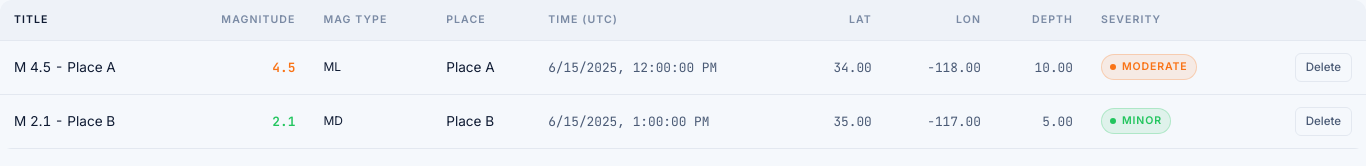
Test: EarthquakeTable › shows confirm/cancel on delete click, cancels on Cancel
The width and height of the screenshot is (1366, 166).
Click the button "Delete" in the row of "M 4.5 - Place A" at (1323, 67), box 1295,53 -> 1352,82
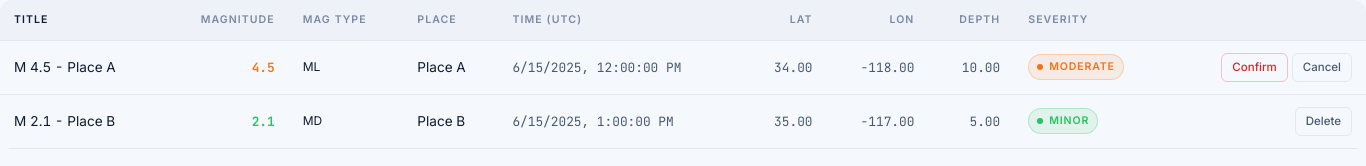
expect the button "Confirm" is shown: met, box 1221,53 -> 1288,82
expect the button "Cancel" is shown: met
Click the button "Cancel" at (1322, 67), box 1292,53 -> 1352,82
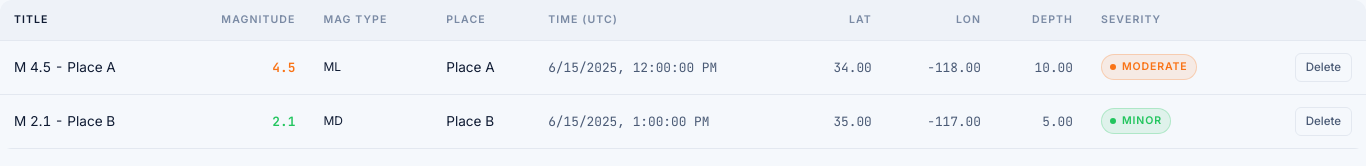
expect the button "Confirm" is gone: met
